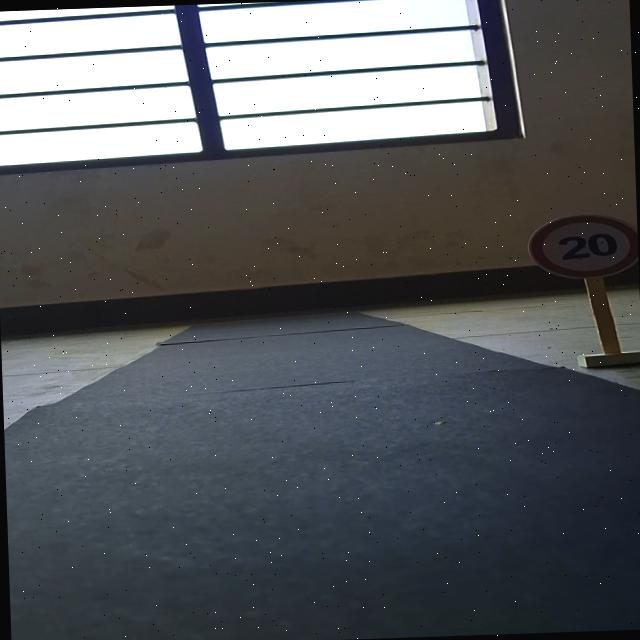Speed20: (522, 209, 638, 284)
